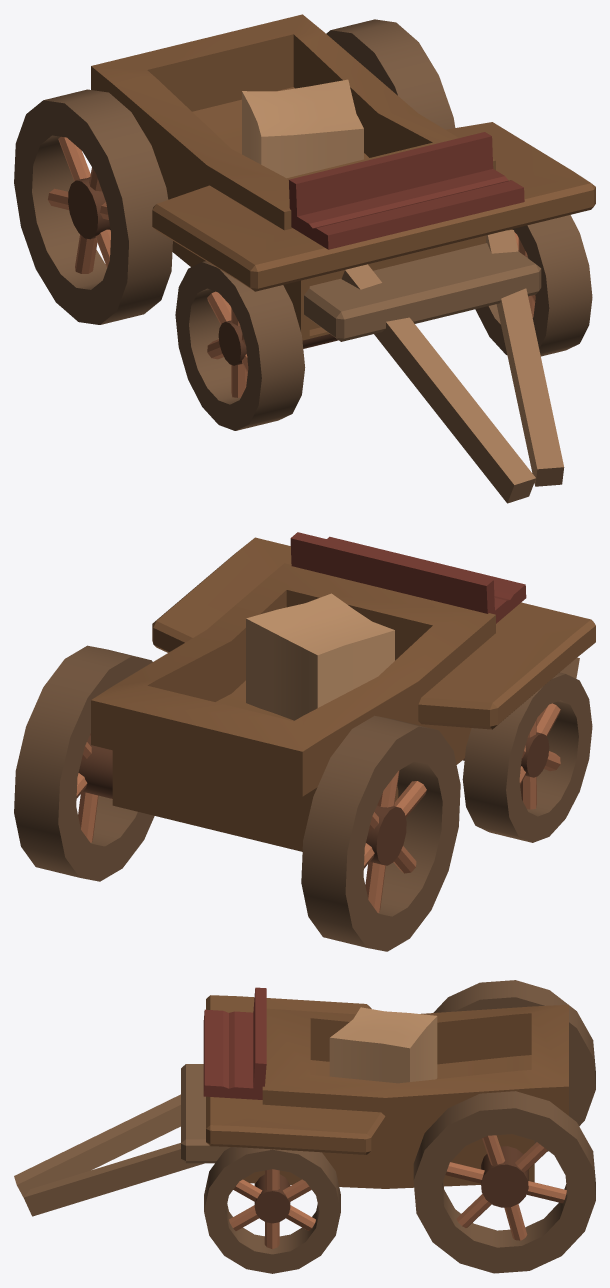
File: Cart.fbx
The picture shows the model from 3 angles, top to bottom: view 1: azimuth 30°, elevation 25°; view 2: azimuth 150°, elevation 25°; view 3: azimuth 270°, elevation 25°; orthographic projection. The views are drawn at different scales.
Visible parts, largest first — view 1: Cylinder.001; view 2: Cylinder.001; view 3: Cylinder.001.
Part boxes in pixels (left/top/right/bottom): Cylinder.001: left=14, top=14, right=595, bottom=503; Cylinder.001: left=14, top=532, right=595, bottom=951; Cylinder.001: left=14, top=980, right=595, bottom=1273.
Bounding box in the file's own units: 241 × 155 × 444.
